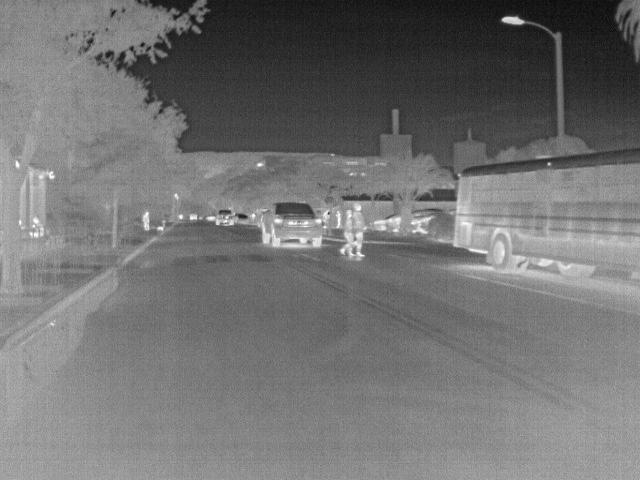car: (260, 200, 324, 248), (370, 211, 398, 232), (216, 209, 236, 229), (235, 213, 251, 226)
person: (348, 200, 367, 257), (339, 209, 357, 256), (27, 214, 44, 238), (142, 210, 154, 232)
